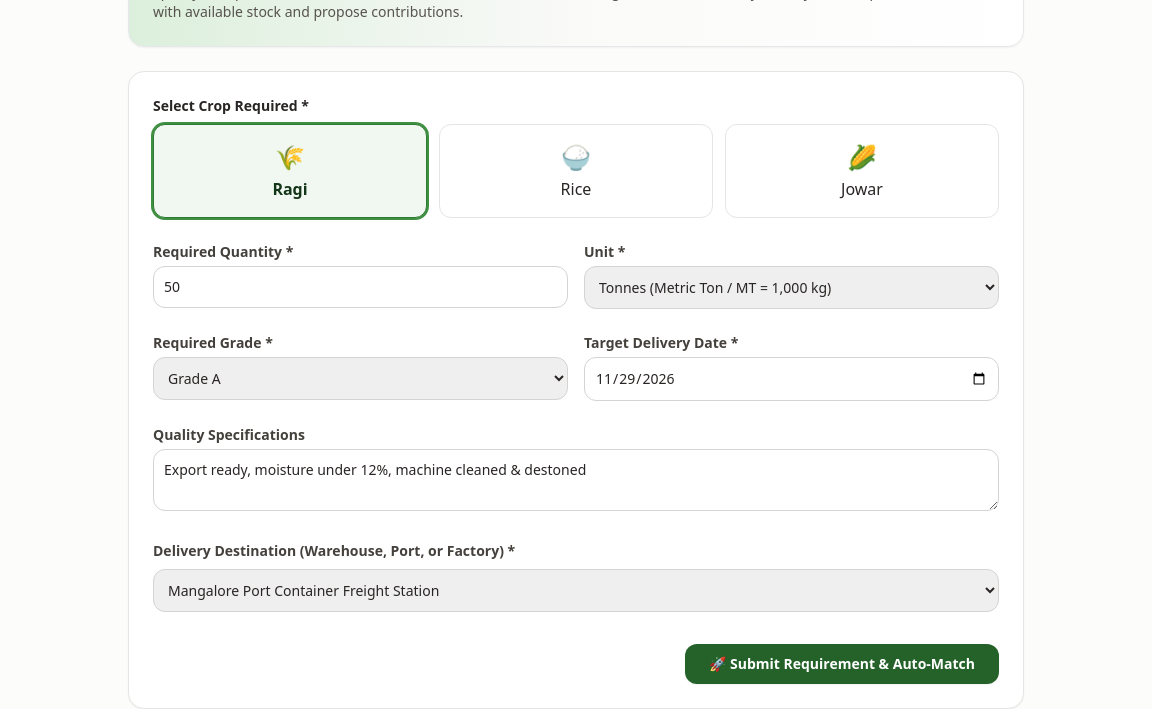
Scenario: Automated Procurement & Aggregation 3-Portal Test Suite › 6. CreateRequirement submits bulk requirement and triggers automated multi-farm matching
(page scrolled)
What coordinates should you click on to do the following:
click the button "🚀 Submit Requirement & Auto-Match"
I would click on:
 (842, 664)
Its box is [685,644,999,684].
(page scrolled)
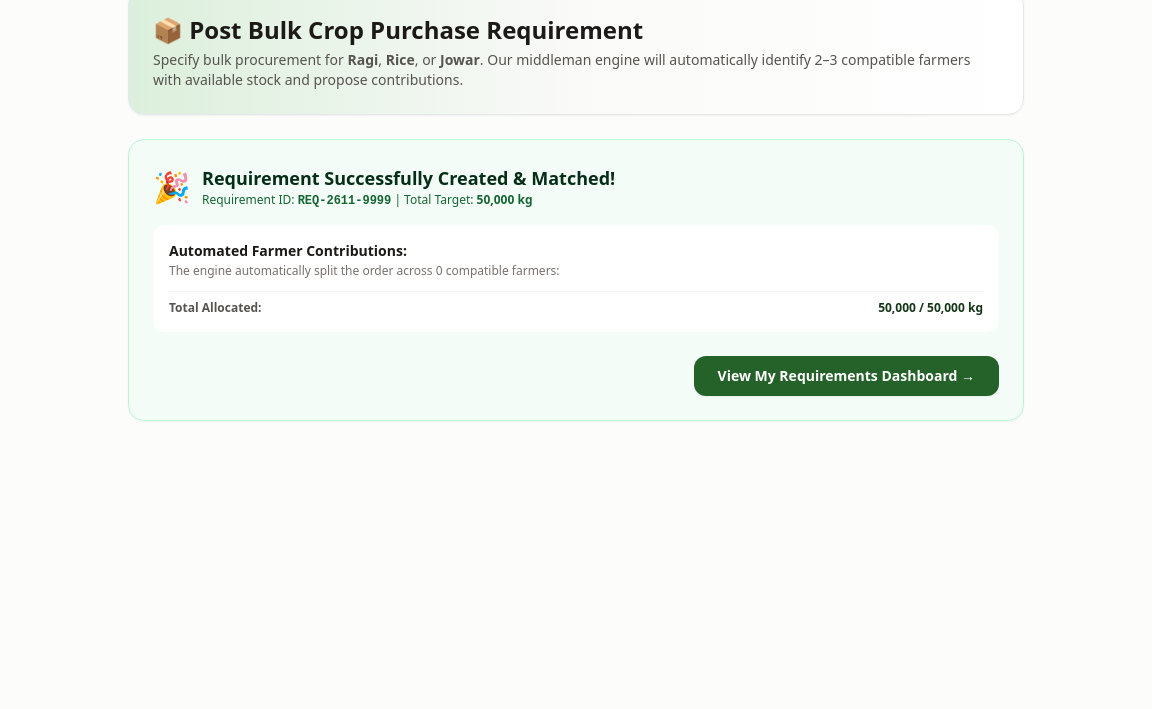
Expected: the heading "Requirement Successfully Created & Matched!" is shown, [202,164,615,192]
Expected: the text "REQ-2611-9999" is shown, [298,194,391,208]
